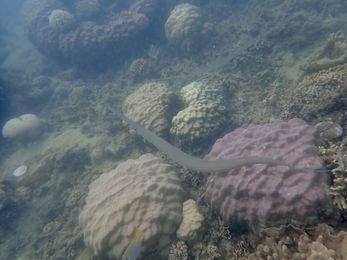Fistularia commersonii: (102, 98, 316, 206)
